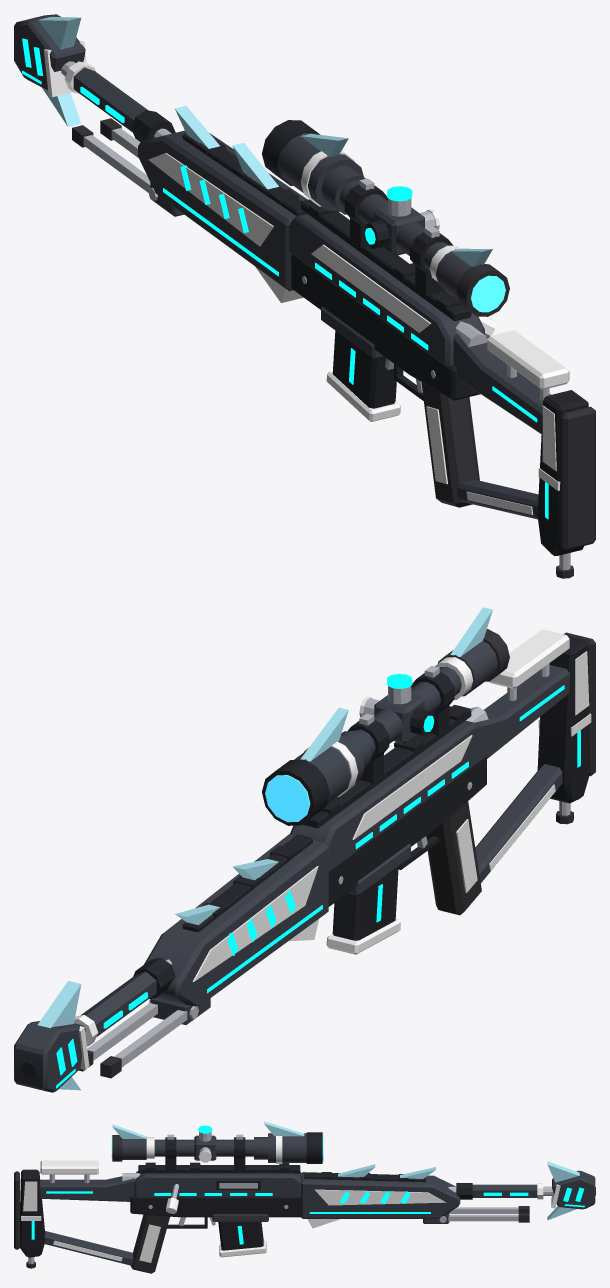
The model's file is Signal7.fbx.
3 renders of one model, top to bottom at view 1: azimuth 30°, elevation 25°; view 2: azimuth 150°, elevation 25°; view 3: azimuth 270°, elevation 25°, orthographic. The views are drawn at different scales.
Visible parts, largest first — view 1: Forend, Receiver, Chassis, ButtPad, StockSpine, Grip, Butt, Mag, CheekRest, ForendPlate, Brake, Bell (+21 smaller); view 2: Forend, Receiver, Chassis, Butt, StockSpine, Brake, Grip, Mag, StockStrut, ForendPlate, CheekRest, SidePlate (+26 smaller); view 3: Forend, Receiver, Chassis, StockSpine, Butt, ForendPlate, Rail, Brake, Mag, Grip, ScopeTube, StockStrut (+27 smaller).
Part boxes in pixels (x1,y1,x2,y2): Forend: [138, 130, 307, 291]; Receiver: [289, 212, 484, 367]; Chassis: [291, 253, 480, 400]; ButtPad: [560, 406, 595, 550]; StockSpine: [453, 329, 550, 433]; Grip: [421, 382, 479, 507]; Butt: [537, 390, 588, 556]; Mag: [332, 330, 396, 408]; CheekRest: [487, 330, 569, 389]; ForendPlate: [148, 153, 273, 246]; Brake: [14, 14, 85, 90]; Bell: [279, 133, 363, 211]; Forend: [144, 834, 328, 1006]; Receiver: [290, 720, 484, 871]; Chassis: [328, 754, 486, 906]; Butt: [537, 636, 590, 803]; StockSpine: [475, 665, 569, 758]; Brake: [14, 1021, 85, 1092]; Grip: [426, 801, 481, 915]; Mag: [332, 866, 398, 940]; StockStrut: [475, 764, 562, 883]; ForendPlate: [192, 866, 318, 981]; CheekRest: [489, 629, 569, 688]; SidePlate: [352, 735, 472, 839]; Forend: [300, 1172, 460, 1218]; Receiver: [134, 1171, 301, 1197]; Chassis: [130, 1195, 300, 1217]; StockSpine: [40, 1176, 135, 1201]; Butt: [20, 1169, 45, 1257]; ForendPlate: [315, 1189, 445, 1205]; Rail: [138, 1165, 300, 1173]; Brake: [552, 1170, 595, 1209]; Mag: [218, 1222, 263, 1250]; Grip: [130, 1214, 169, 1273]; ScopeTube: [154, 1139, 253, 1156]; StockStrut: [44, 1231, 133, 1265].
Size of the model in its own units: 0.5611 by 1.62 by 5.75.
